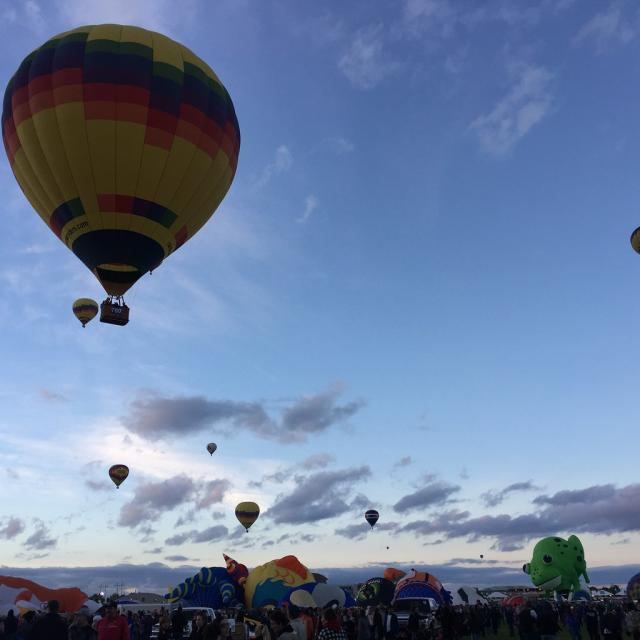balloon: (2, 23, 242, 327), (73, 299, 99, 329), (236, 502, 261, 533), (109, 465, 130, 489), (365, 510, 380, 530), (207, 442, 220, 457)
